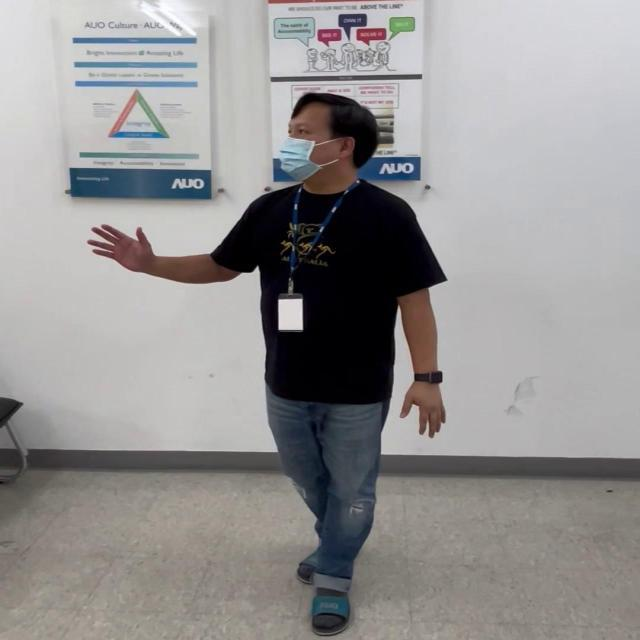bare_hand: (87, 217, 153, 276), (399, 376, 447, 440)
